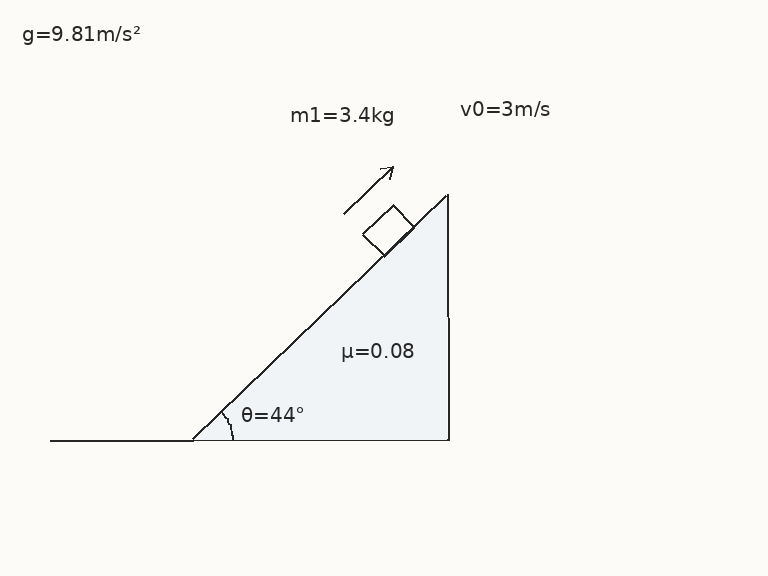block: (360, 203, 416, 258)
ramp: (191, 193, 449, 442)
